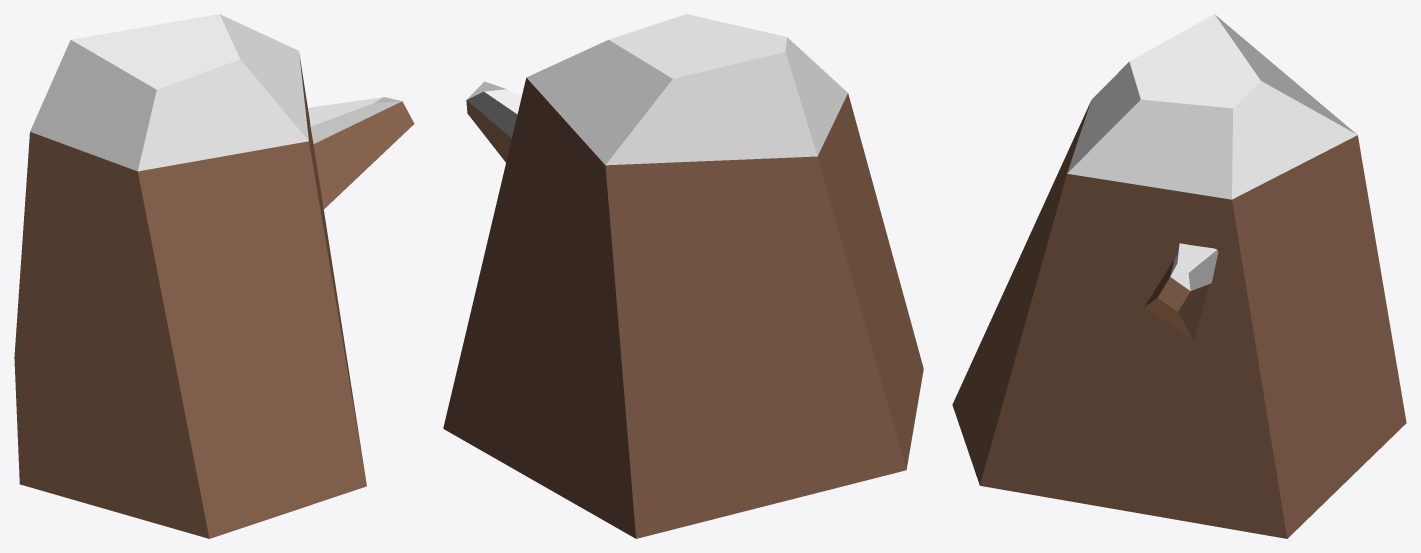
The model's file is StumpWinter1.fbx.
3 renders of one model, left to right at view 1: azimuth 30°, elevation 25°; view 2: azimuth 150°, elevation 25°; view 3: azimuth 270°, elevation 25°, orthographic. The views are drawn at different scales.
Parts seen in each view (by area): view 1: StumpWinter1; view 2: StumpWinter1; view 3: StumpWinter1.
Part boxes in pixels (left/top/right/bottom): StumpWinter1: left=14, top=14, right=414, bottom=538; StumpWinter1: left=443, top=14, right=923, bottom=538; StumpWinter1: left=952, top=14, right=1406, bottom=538.
Bounding box in the file's own units: 0.5054 × 0.4796 × 0.5074.
